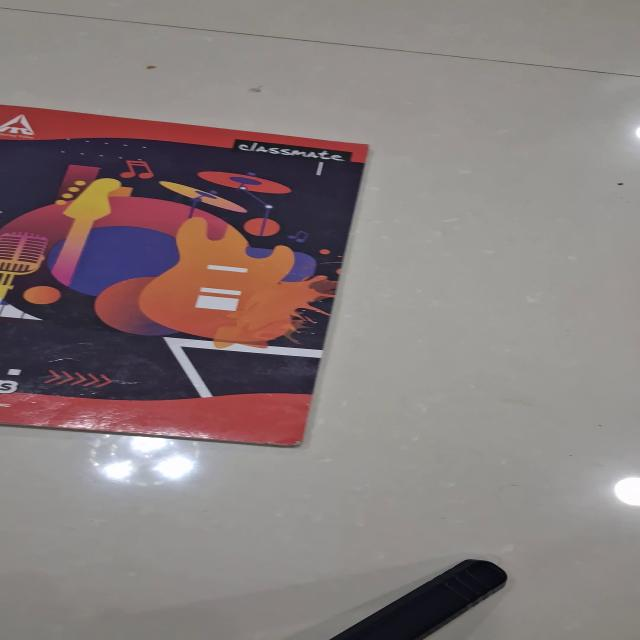paper: (1, 104, 369, 447)
